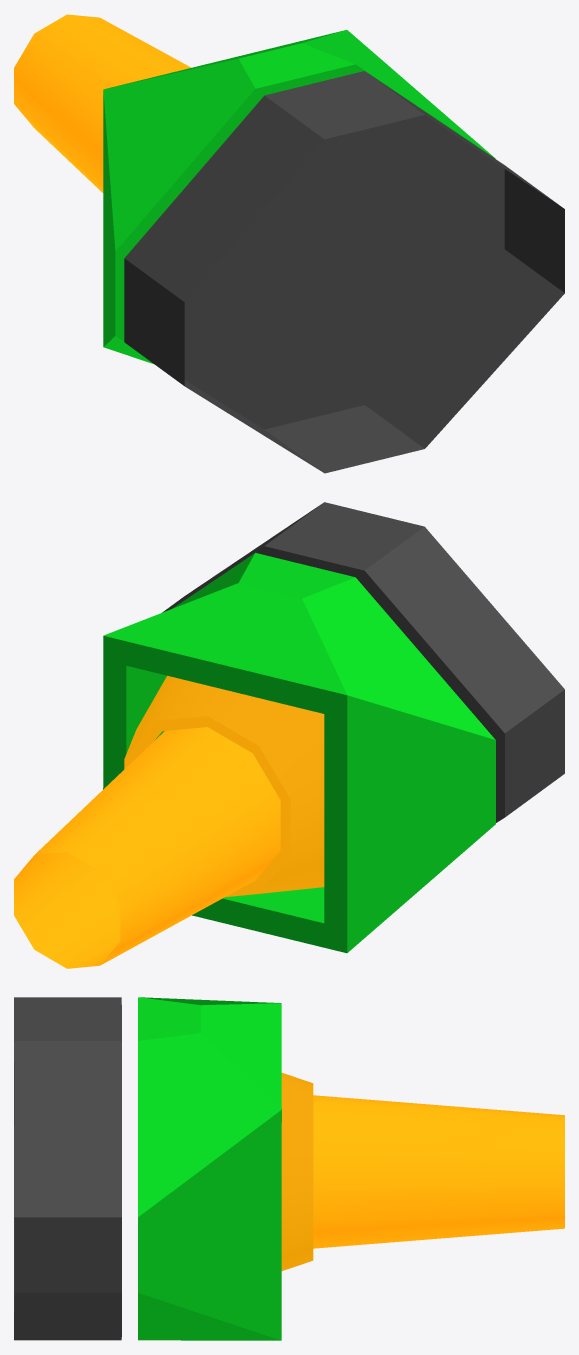
Rendered from teleport.glb.
The picture shows the model from 3 angles, top to bottom: view 1: azimuth 30°, elevation 25°; view 2: azimuth 150°, elevation 25°; view 3: azimuth 270°, elevation 25°; orthographic projection. The views are drawn at different scales.
Visible parts, largest first — view 1: Plane.006, boost-part.010; view 2: Plane.006, boost-part.010; view 3: Plane.006, boost-part.010.
Boxes of the visible parts, <box> form: Plane.006: <box>103,30,564,473</box>; boost-part.010: <box>14,14,190,192</box>; Plane.006: <box>103,502,564,953</box>; boost-part.010: <box>14,727,280,968</box>; Plane.006: <box>14,997,313,1340</box>; boost-part.010: <box>313,1095,564,1248</box>.
Size of the model in its own units: 0.1713 by 0.1437 by 0.2397.
